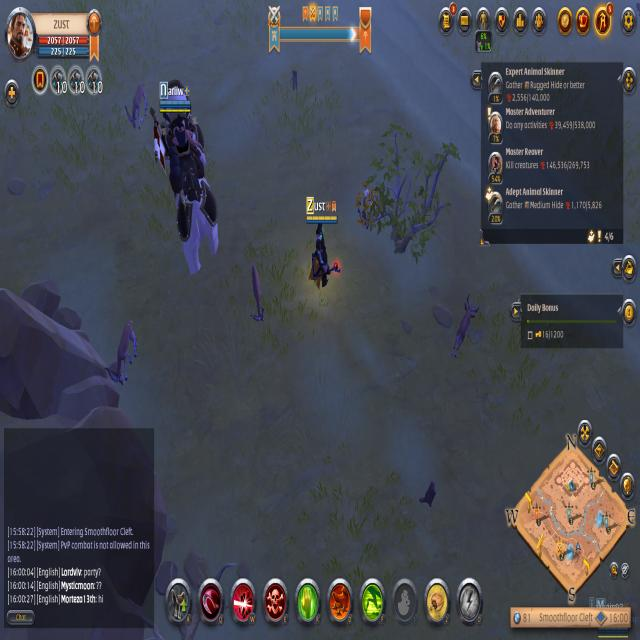deer_alive: (107, 327, 146, 389), (243, 257, 274, 331), (450, 294, 484, 360), (121, 76, 152, 136)
